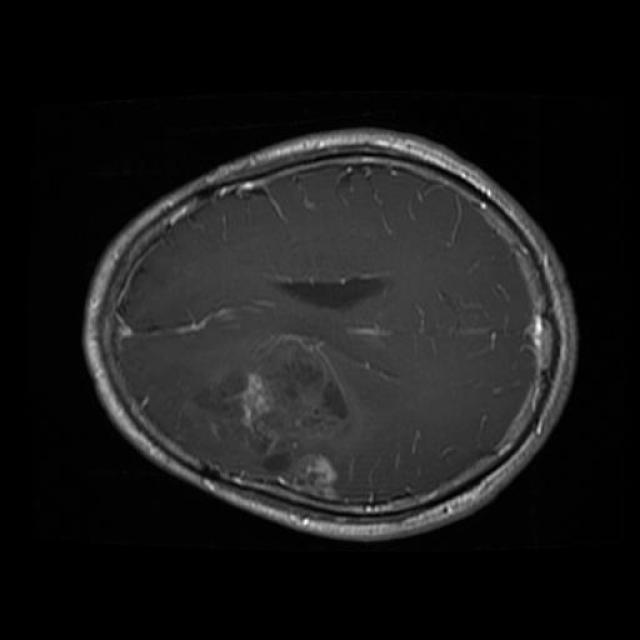Glioma: (194, 335, 348, 496)
